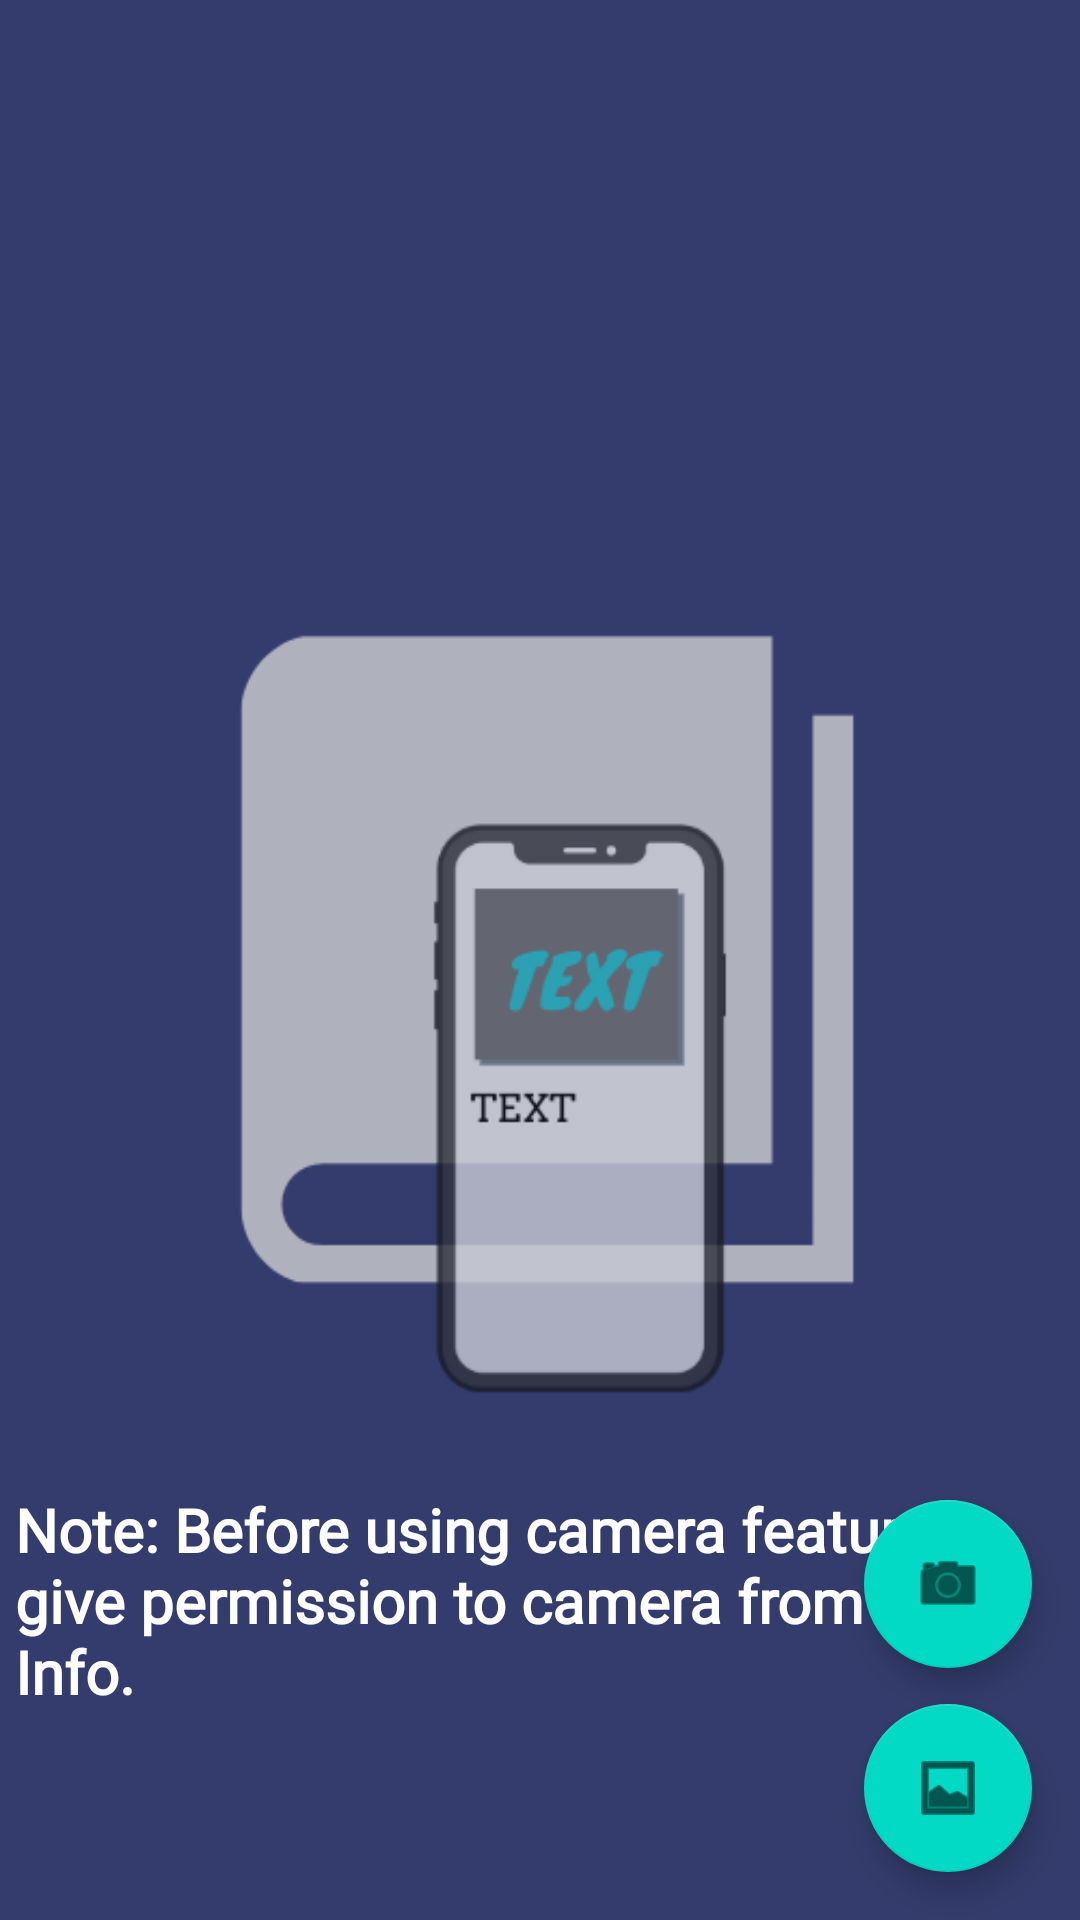

Icons on this 1080px×1920px Android screen, each with its box as bbox=[x1, y1, x2, y2]:
gallery: bbox=[864, 1704, 1032, 1872]
